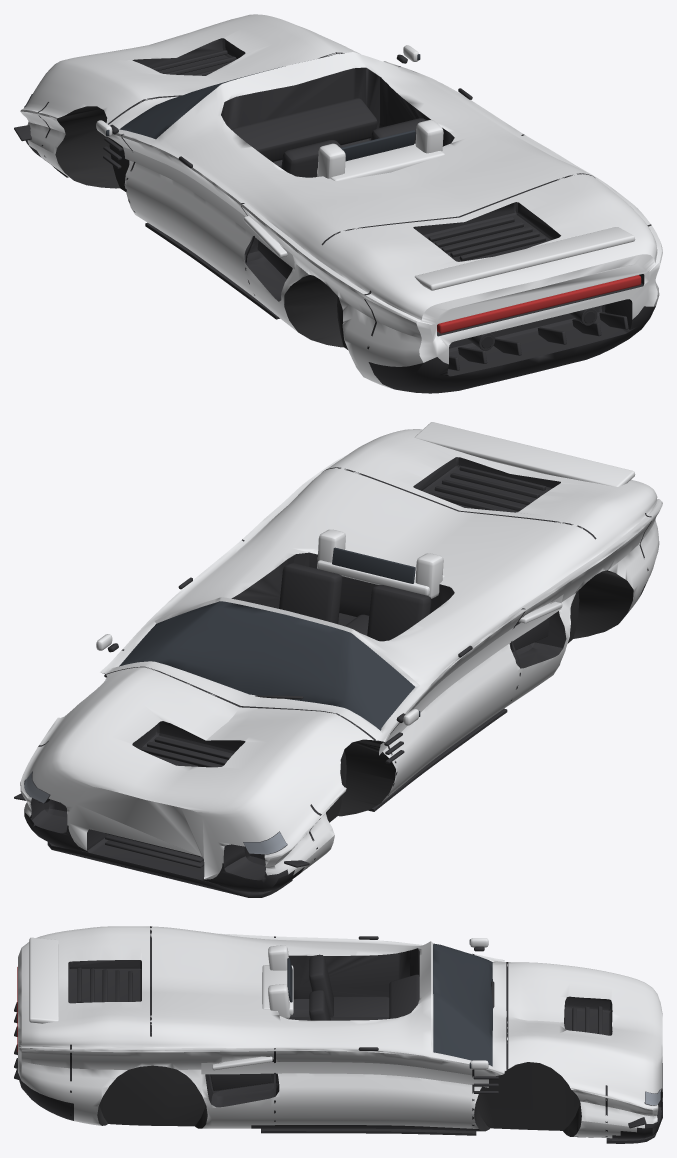
The model's file is exo_super_spider.glb.
The picture shows the model from 3 angles, top to bottom: view 1: azimuth 30°, elevation 25°; view 2: azimuth 150°, elevation 25°; view 3: azimuth 270°, elevation 25°; orthographic projection. The views are drawn at different scales.
Visible parts, largest first — view 1: exo_super_spider; view 2: exo_super_spider; view 3: exo_super_spider.
Boxes of the visible parts, x1,y1,x2,y2 form: exo_super_spider: (14, 14, 662, 393); exo_super_spider: (14, 422, 662, 897); exo_super_spider: (14, 926, 662, 1143).
Bounding box in the file's own units: 2.09 × 1.05 × 4.58.
